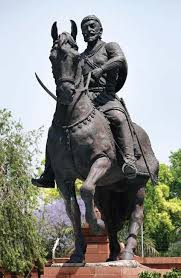person-like: (78, 13, 140, 182)
